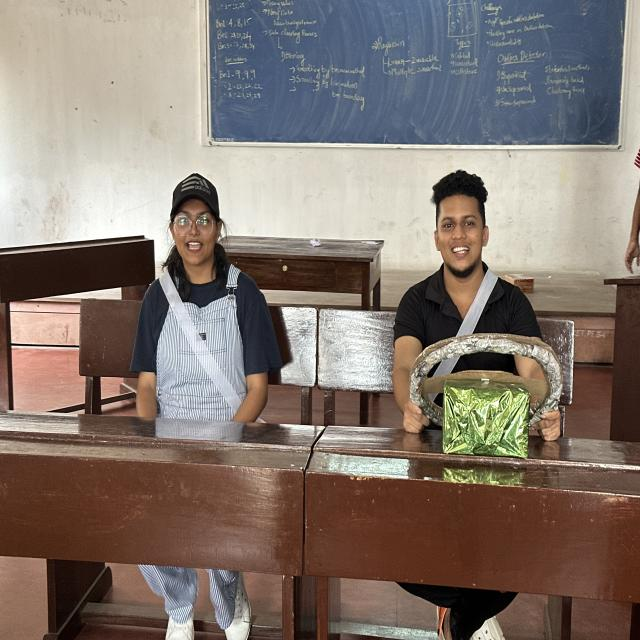seatbelt: (101, 263, 289, 426), (396, 269, 542, 421)
